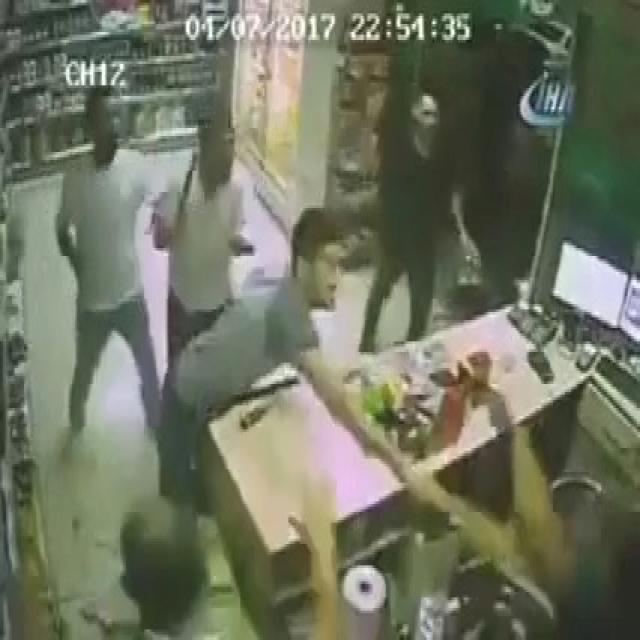fight: (160, 94, 348, 503)
